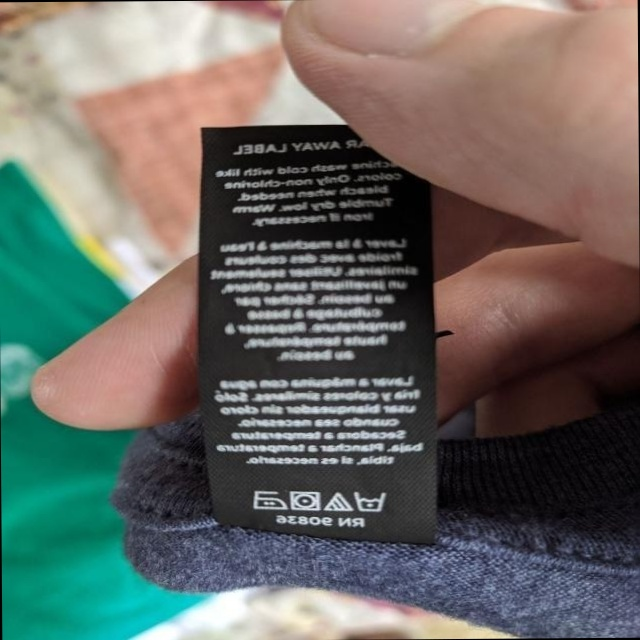30C: (354, 488, 385, 514)
iron_medium: (248, 489, 285, 515)
non_chlorine_bleach: (322, 492, 351, 514)
tumble_dry_low: (285, 490, 320, 515)
